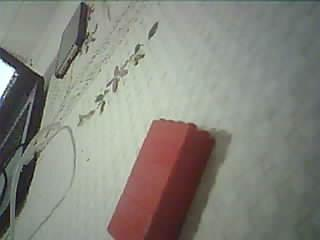lego: (107, 118, 215, 240)
